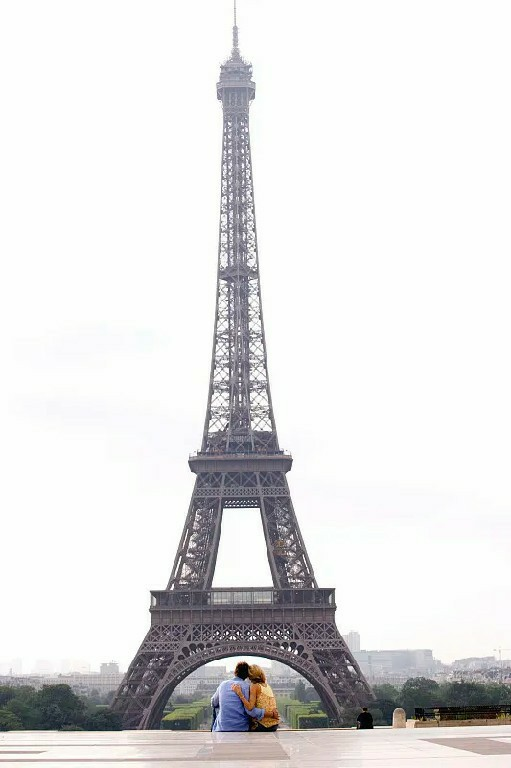Eiffel: (107, 1, 384, 730)
